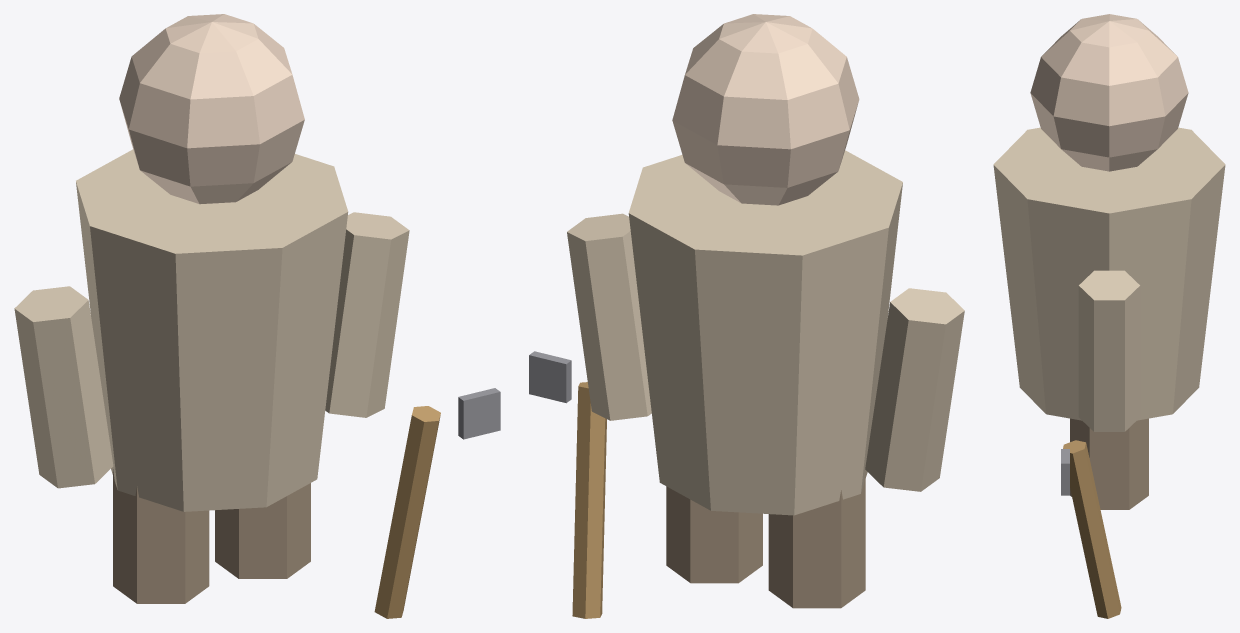
Rendered from woodcutter.glb.
3 renders of one model, left to right at view 1: azimuth 30°, elevation 25°; view 2: azimuth 150°, elevation 25°; view 3: azimuth 270°, elevation 25°, orthographic. The views are drawn at different scales.
Parts seen in each view (by area): view 1: woodcutter; view 2: woodcutter; view 3: woodcutter.
Part boxes in pixels (bbox=[...]): woodcutter: bbox=[14, 14, 500, 618]; woodcutter: bbox=[529, 14, 964, 618]; woodcutter: bbox=[993, 14, 1225, 618].
Bounding box in the file's own units: 0.4834 × 0.6558 × 0.264.
